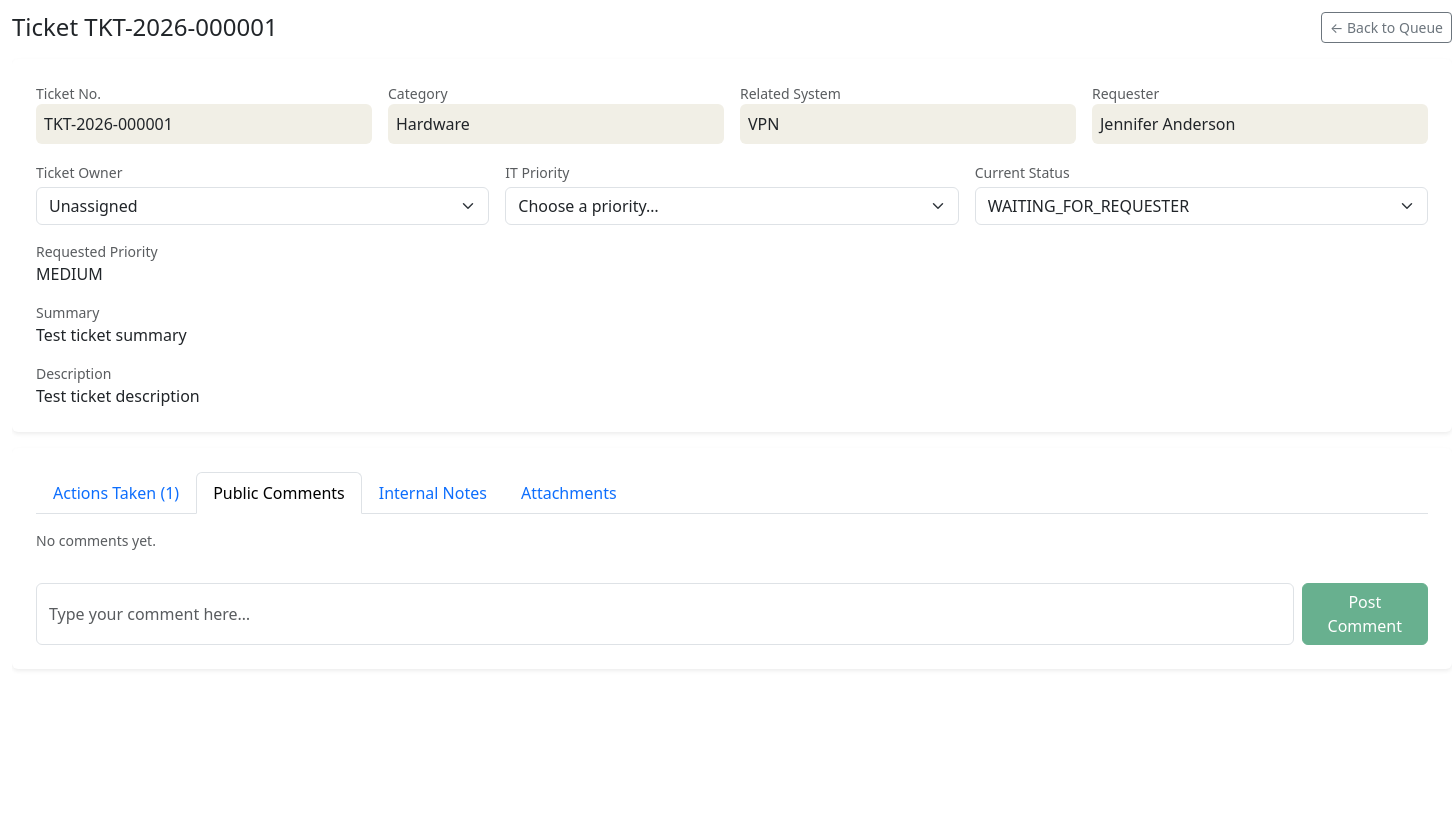
Test: Status select — resolution-gate hint (UI-05) › shows the blocking Actions and jumps to the Actions Taken tab on a stale RESOLUTION_BLOCKED response
This screenshot has width=1452, height=822.
Select "RESOLVED" in the dropdown labelled "Current Status" at (1201, 206), box x1=975 y1=187 x2=1428 y2=225
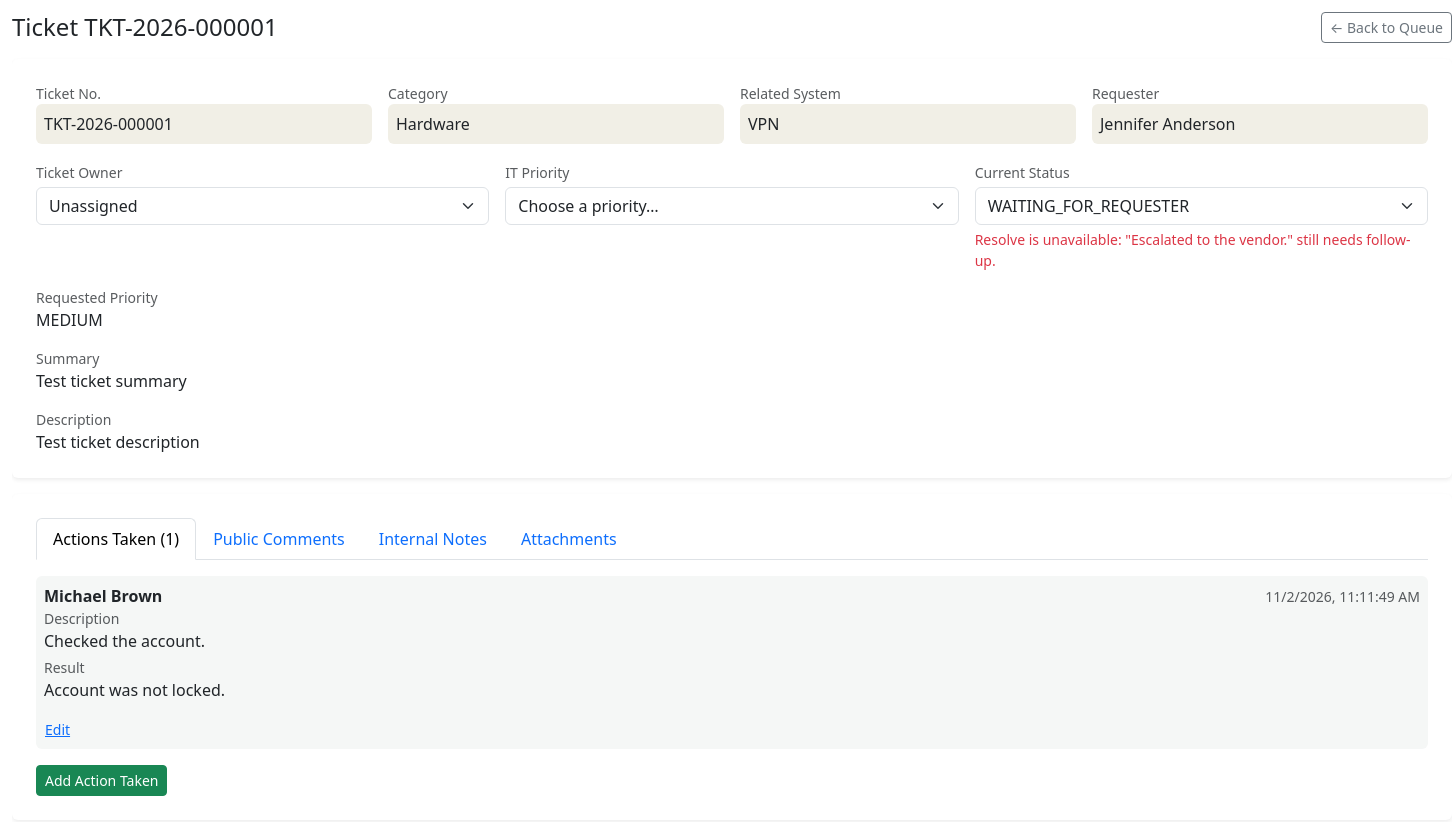
Expected: the text "Escalated to the vendor." is shown, x1=975 y1=230 x2=1410 y2=270
